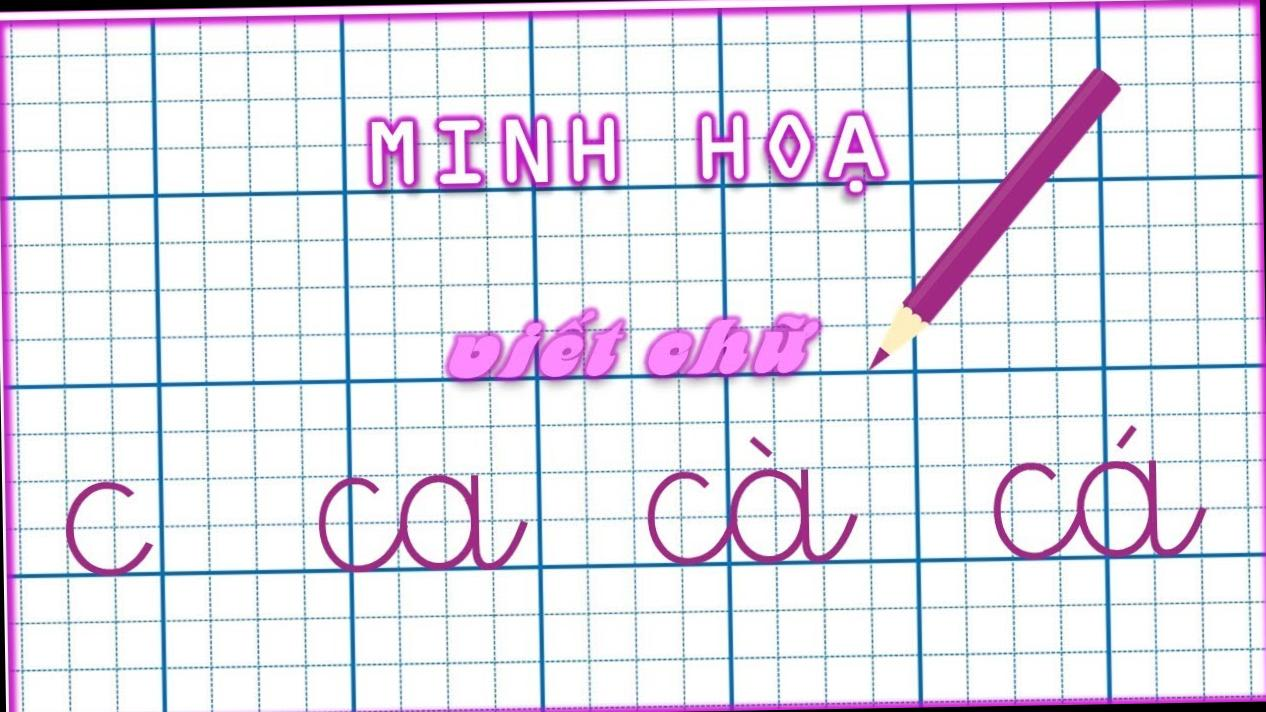text: (362, 104, 890, 206), (444, 298, 828, 386), (988, 422, 1212, 566), (640, 433, 862, 572), (313, 469, 533, 578), (64, 479, 158, 579)
